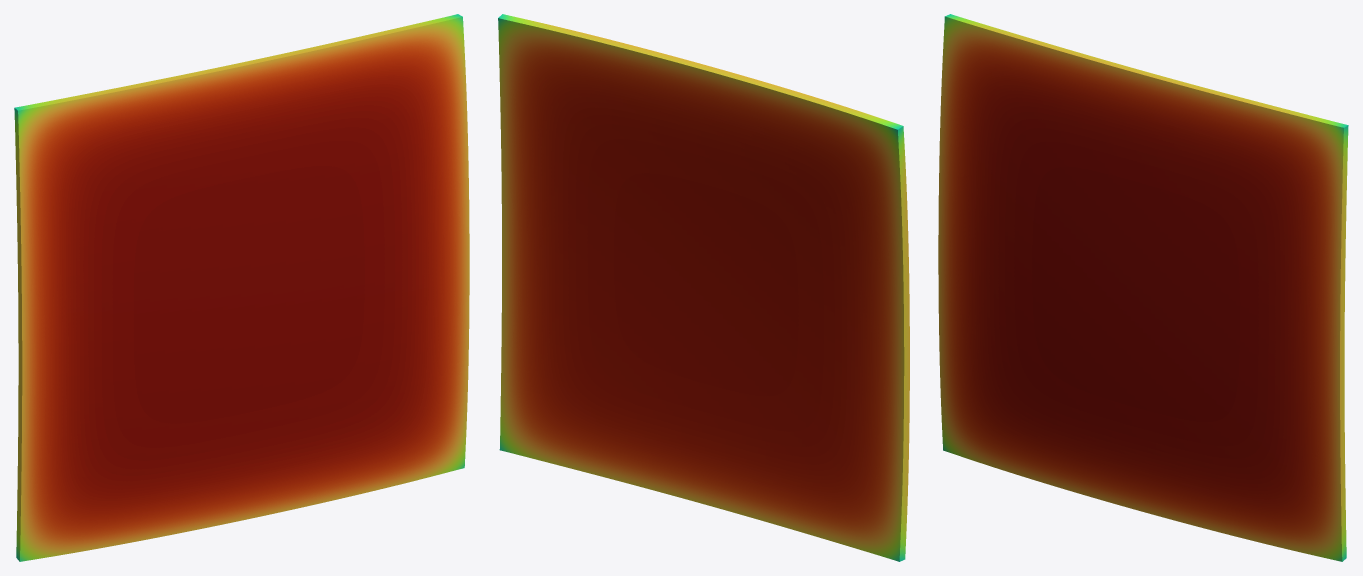
Rendered from DISP_Al6061-T6_2mm.gltf.
The picture shows the model from 3 angles, left to right: view 1: azimuth 30°, elevation 25°; view 2: azimuth 150°, elevation 25°; view 3: azimuth 330°, elevation 25°; orthographic projection. The views are drawn at different scales.
Parts seen in each view (by area): view 1: Renderer Node; view 2: Renderer Node; view 3: Renderer Node.
Part boxes in pixels (x1,y1,x2,y2): Renderer Node: (14, 14, 469, 561); Renderer Node: (498, 14, 909, 561); Renderer Node: (938, 14, 1348, 561).
Size of the model in its own units: 111 by 111 by 11.24.
Materials: 1 (1 with a texture image).
